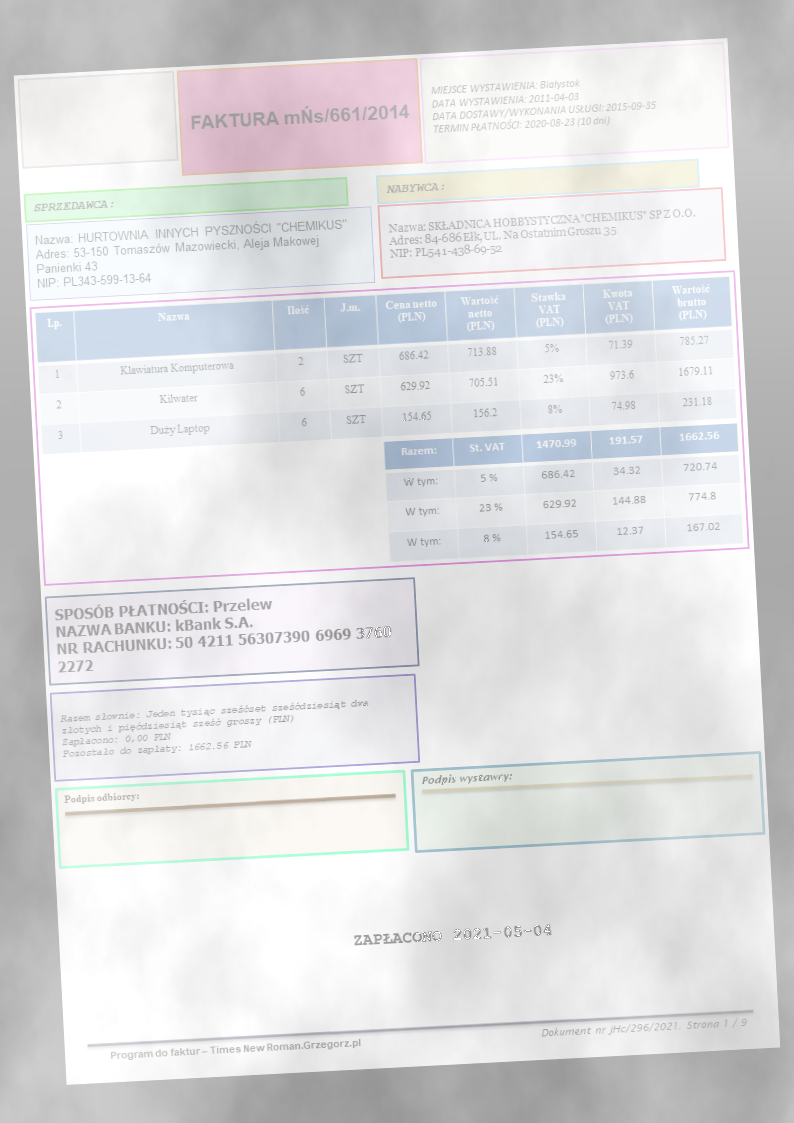Table: (34, 275, 737, 456), (382, 421, 745, 563)
TextBox: (51, 588, 394, 676), (32, 215, 352, 292), (58, 695, 373, 761), (385, 204, 700, 262), (429, 72, 659, 136), (189, 99, 412, 132), (108, 1036, 363, 1064), (351, 921, 555, 949), (538, 1015, 749, 1040), (419, 769, 514, 788), (62, 788, 139, 807), (32, 197, 115, 214), (383, 180, 446, 196)
